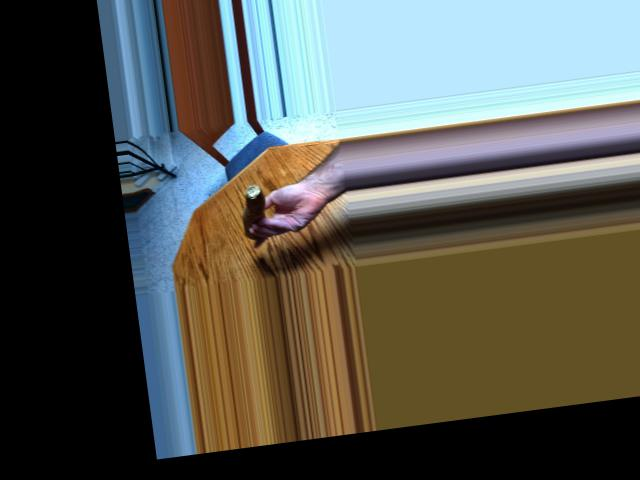sweet_potato: (238, 191, 262, 241)
